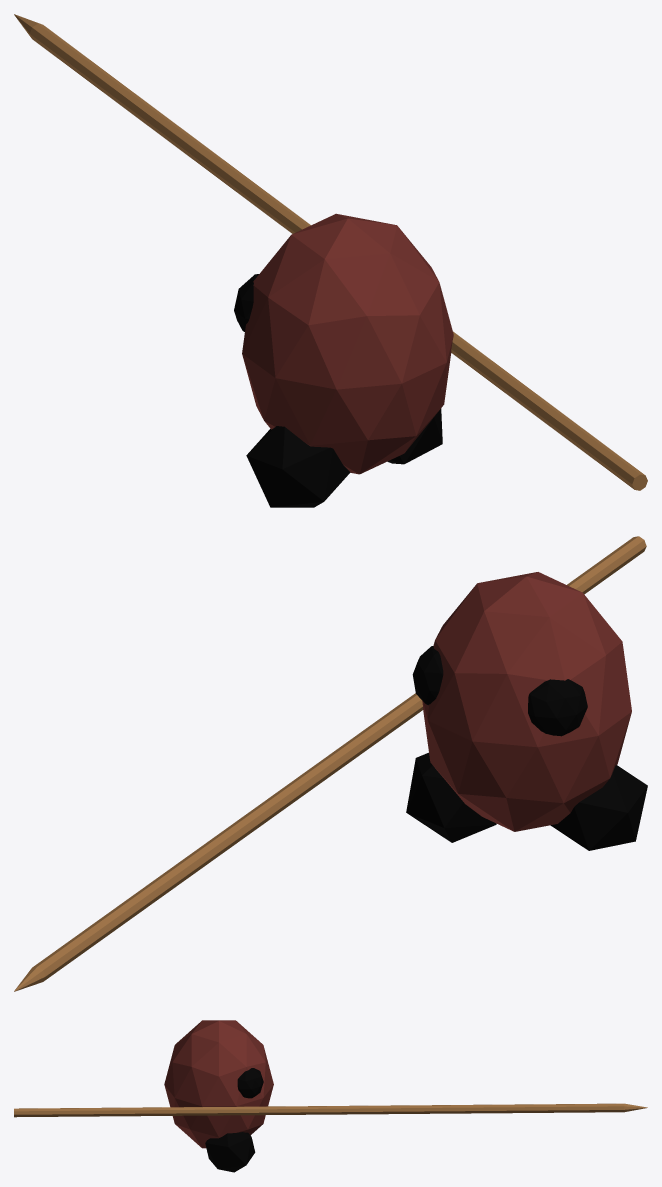
The model's file is walk.f0024.glb.
3 renders of one model, top to bottom at view 1: azimuth 30°, elevation 25°; view 2: azimuth 150°, elevation 25°; view 3: azimuth 270°, elevation 25°, orthographic. The views are drawn at different scales.
Parts seen in each view (by area): view 1: Body.001; view 2: Body.001; view 3: Body.001.
Boxes of the visible parts, x1,y1,x2,y2 form: Body.001: [14, 14, 647, 507]; Body.001: [14, 536, 647, 991]; Body.001: [14, 1020, 647, 1172].
Size of the model in its own units: 2.17 by 2.76 by 11.56.
Materials: 1 (1 with a texture image).
